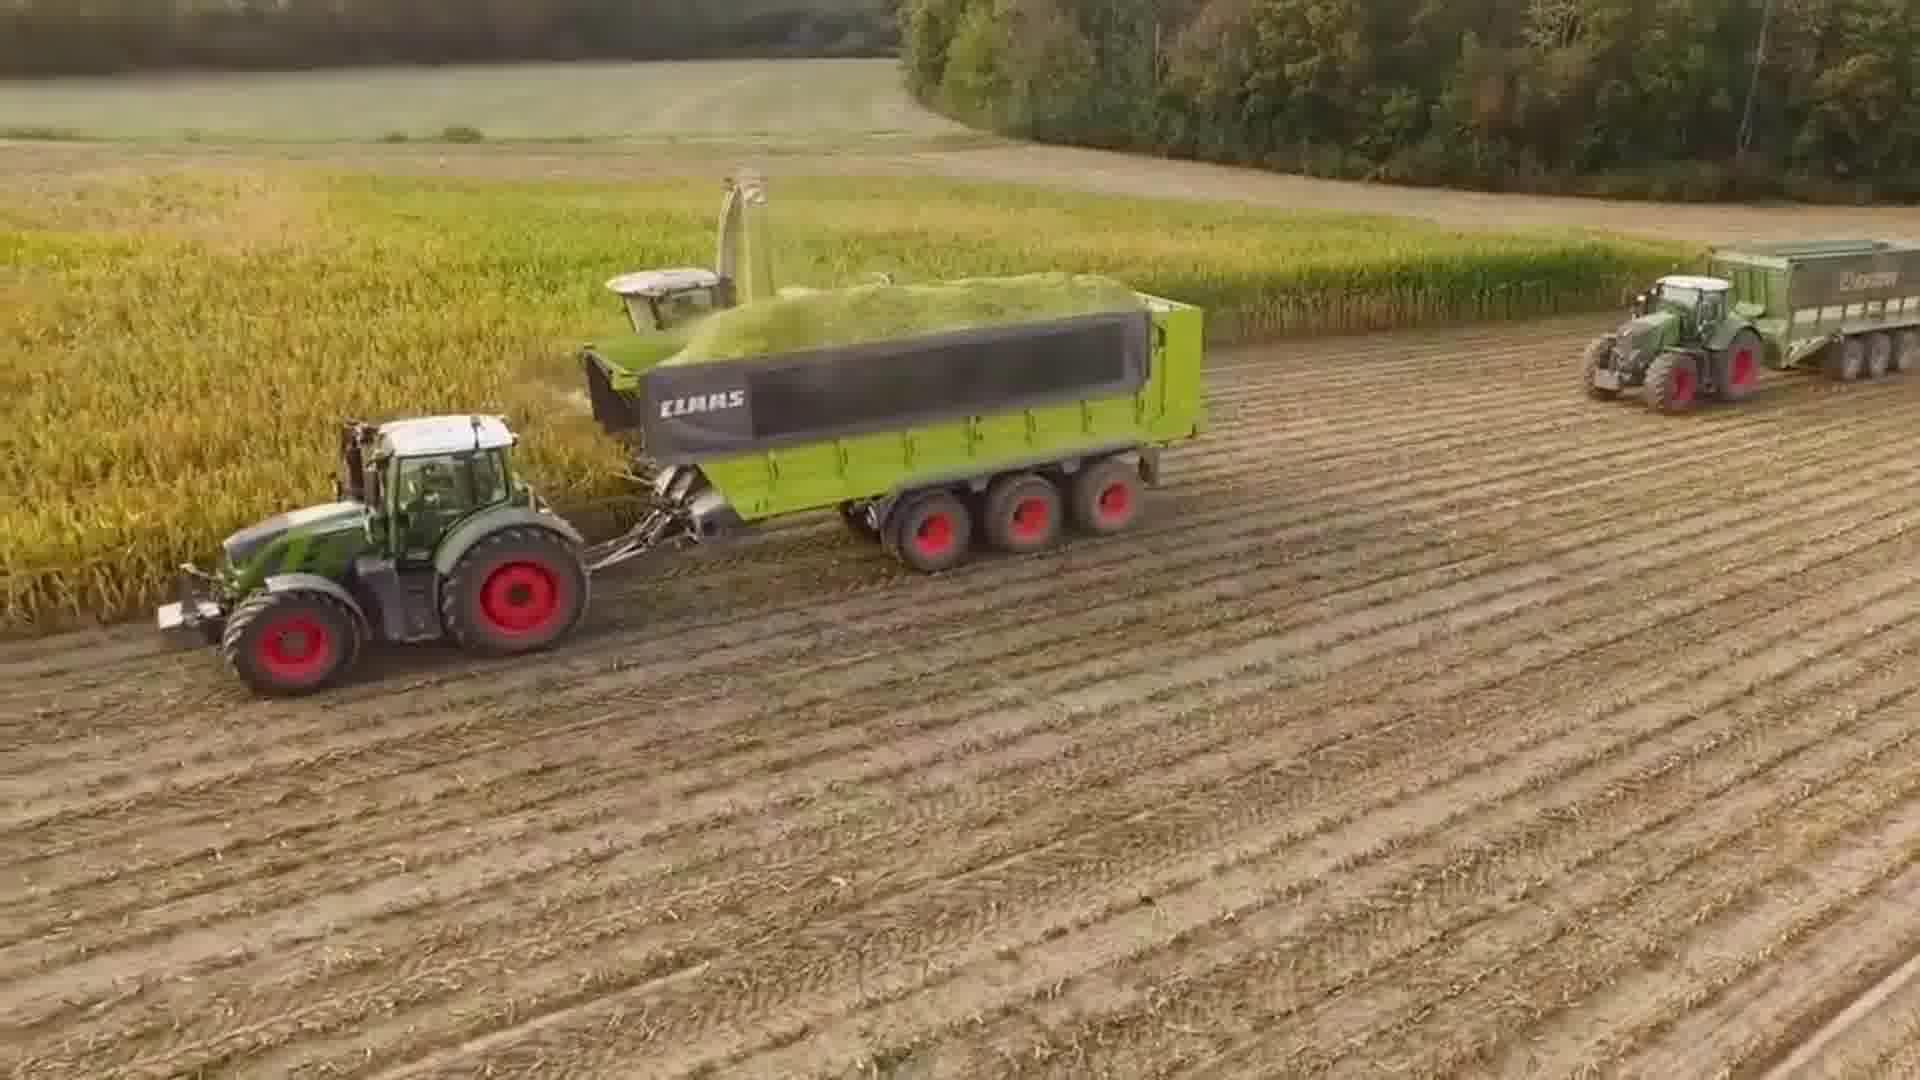combine harvester: (607, 154, 777, 330)
tractor: (152, 406, 593, 707), (1573, 265, 1771, 426)
trailer: (583, 260, 1217, 587), (1692, 224, 1920, 398)
